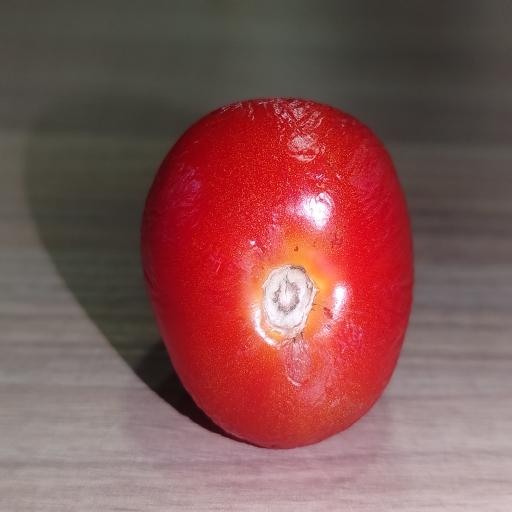spoiled: (141, 98, 413, 448)
